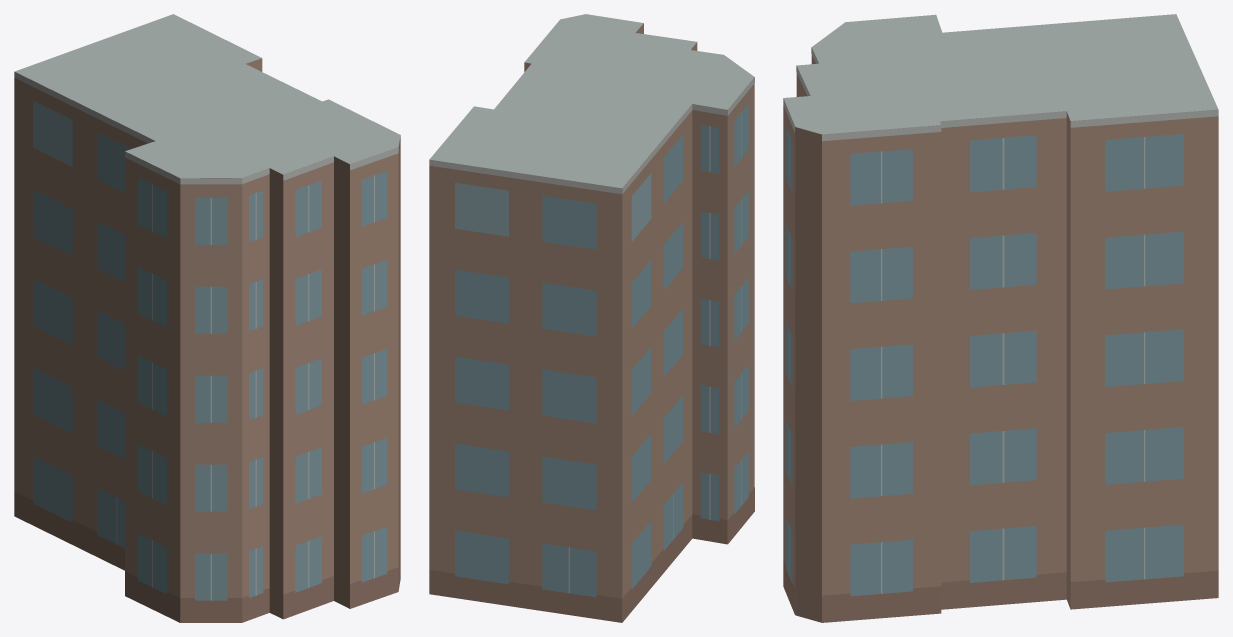
File: survey-upis-32688579.glb
3 views of the same model, side by side, from view 1: azimuth 30°, elevation 25°; view 2: azimuth 150°, elevation 25°; view 3: azimuth 270°, elevation 25° (orthographic). The views are drawn at different scales.
Visible parts, largest first — view 1: survey-upis-32688579.tmp; view 2: survey-upis-32688579.tmp; view 3: survey-upis-32688579.tmp.
Part boxes in pixels (x1,y1,x2,y2): survey-upis-32688579.tmp: [14, 14, 400, 622]; survey-upis-32688579.tmp: [429, 14, 754, 622]; survey-upis-32688579.tmp: [783, 14, 1218, 622].
Bounding box in the file's own units: 9.33 × 17.62 × 14.24.
